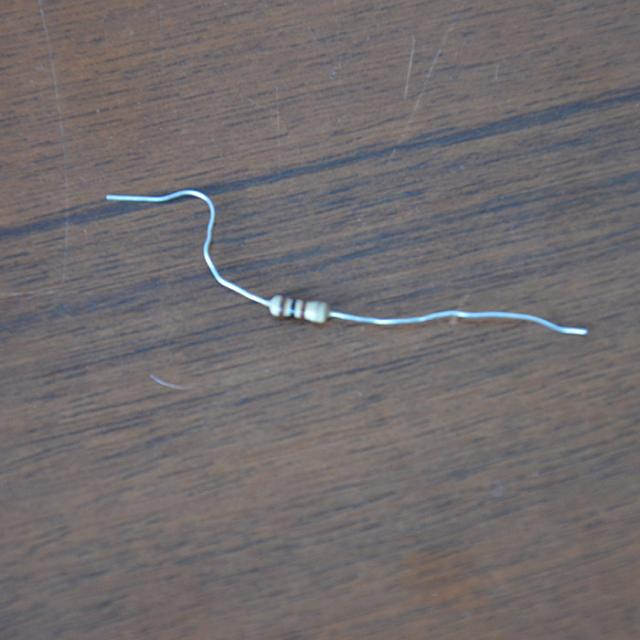Resistor Carbon-Film: (271, 293, 330, 326)
